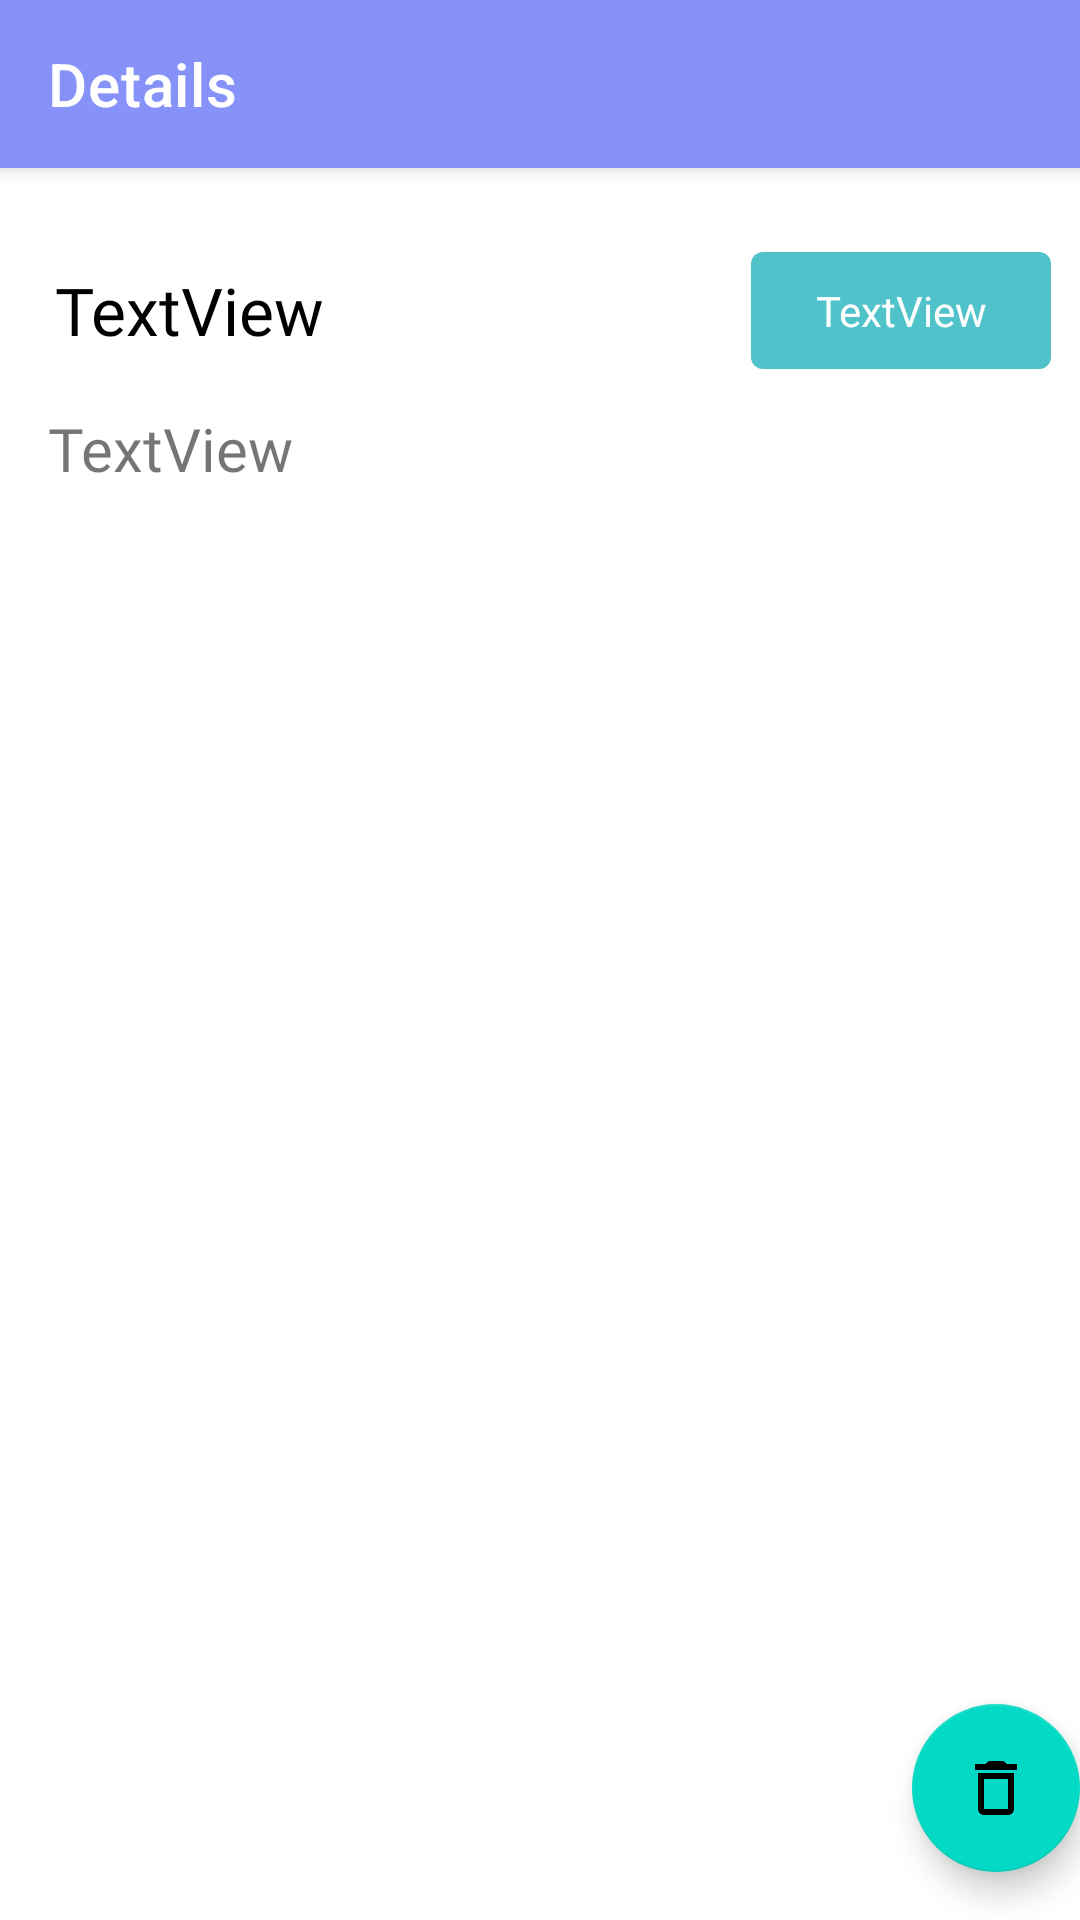

Locate icon controls on the screen. Image size 1080*1920, boxes as (left=x1, top=y1, right=x2, bottom=y2).
delete: (left=912, top=1704, right=1080, bottom=1872)
